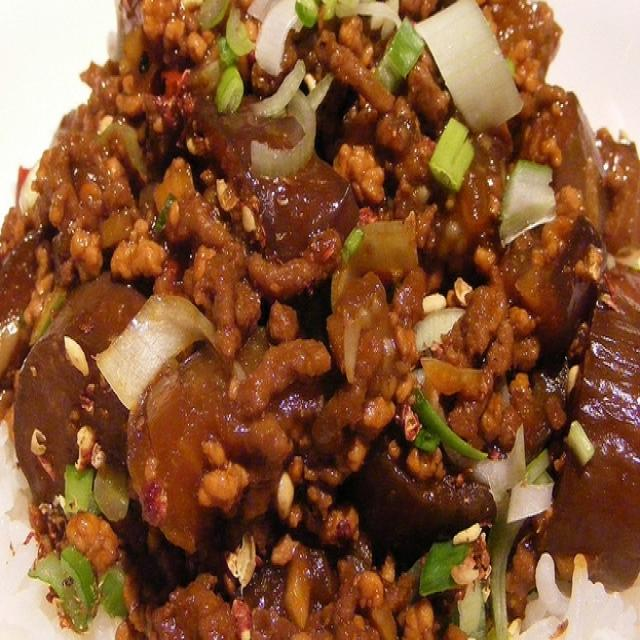鸡蛋料理: (13, 13, 632, 624)
